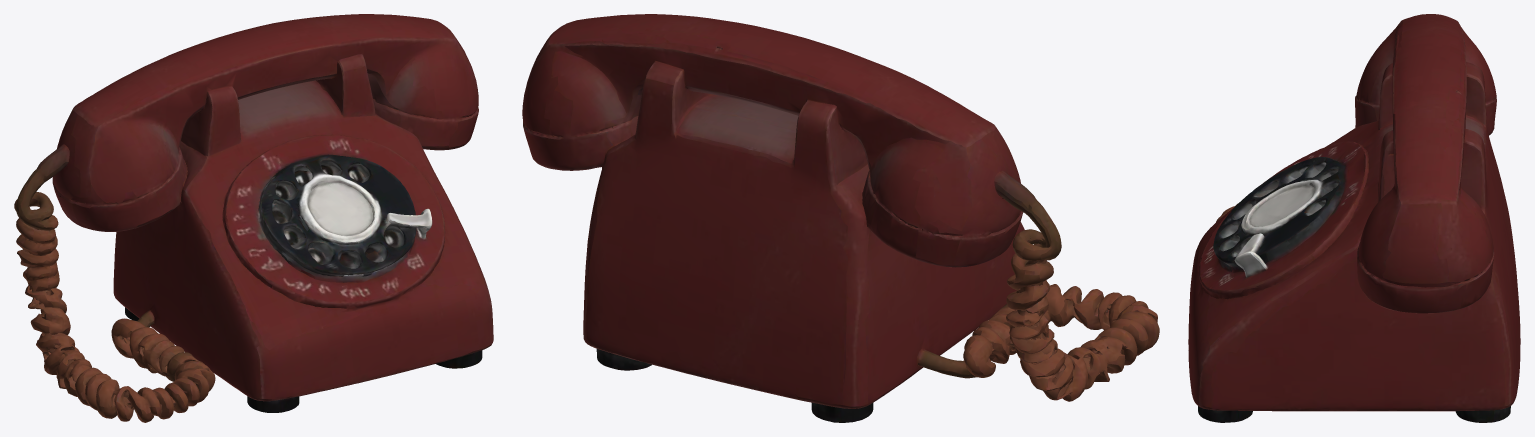
Rendered from whole.glb.
The picture shows the model from 3 angles, left to right: view 1: azimuth 30°, elevation 25°; view 2: azimuth 150°, elevation 25°; view 3: azimuth 270°, elevation 25°; orthographic projection. The views are drawn at different scales.
Visible parts, largest first — view 1: world; view 2: world; view 3: world.
Part boxes in pixels (x1=…): world: x1=14, y1=14, x2=493, y2=422; world: x1=522, y1=14, x2=1159, y2=422; world: x1=1188, y1=14, x2=1520, y2=422.
Bounding box in the file's own units: 0.23 × 0.1349 × 0.1387.
1 material, 1 textured.
